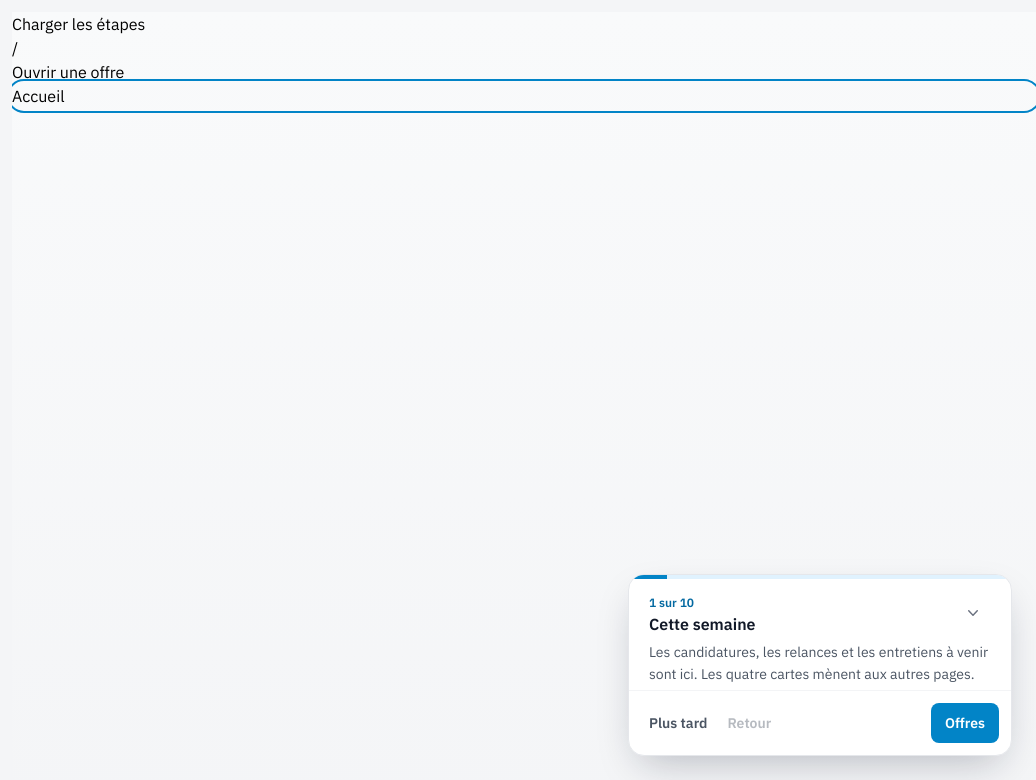
Test case: OnboardingTour › suit le menu quand on change de page soi-même
Step 1. Click the link "Ouvrir une offre" → click(68, 72), box [12,62,124,82]
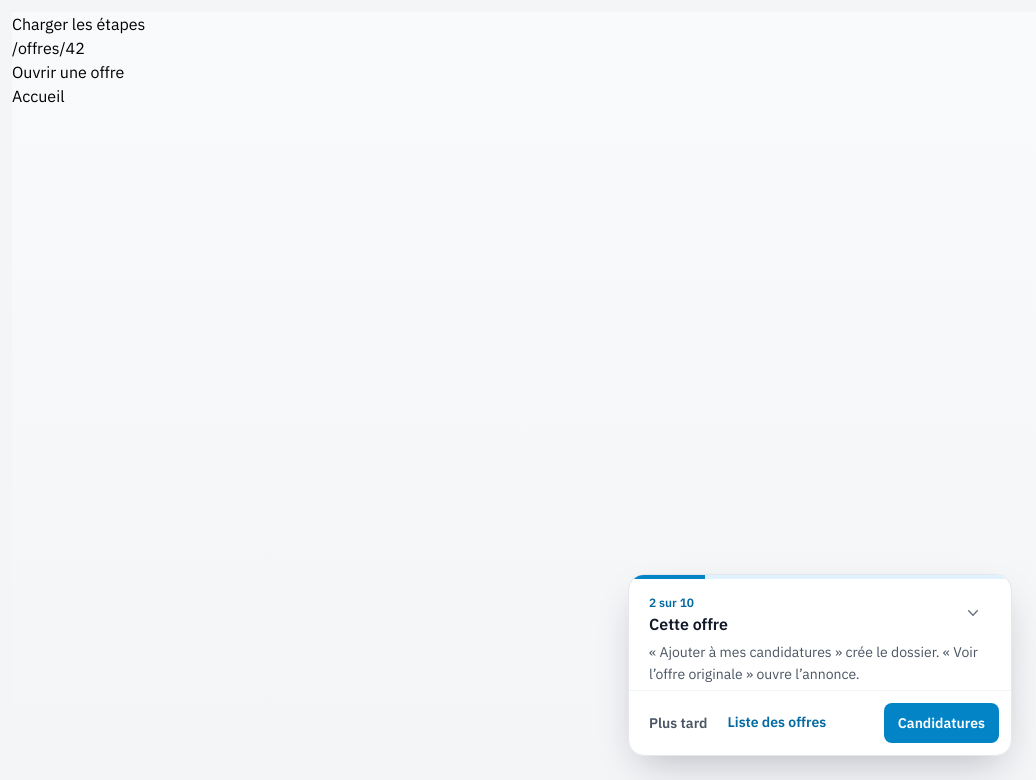
Now the heading "Cette offre" is shown, box [649,612,728,634]
